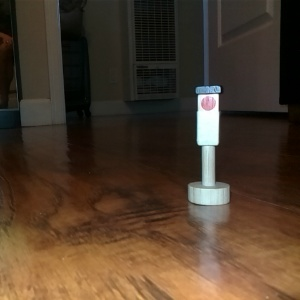traffic light red: (185, 81, 233, 208)
